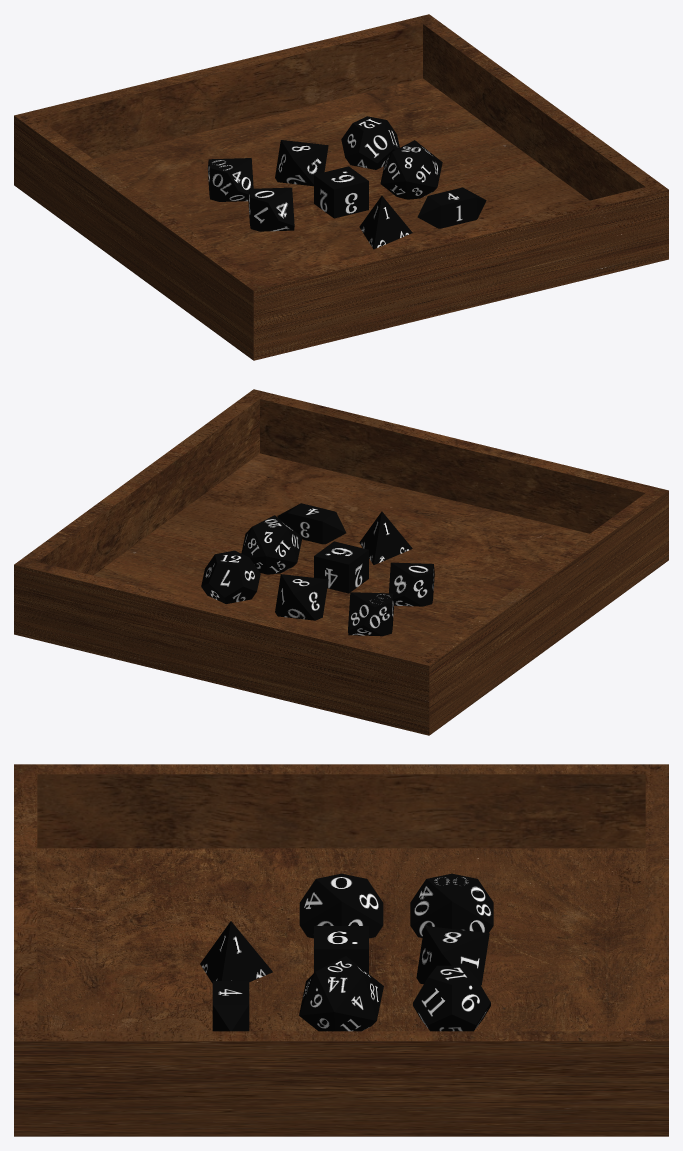
The model's file is dice.glb.
The picture shows the model from 3 angles, top to bottom: view 1: azimuth 30°, elevation 25°; view 2: azimuth 150°, elevation 25°; view 3: azimuth 270°, elevation 25°; orthographic projection. The views are drawn at different scales.
Visible parts, largest first — view 1: Tray, d12_unbaked, d10_unbaked, d20_unbaked, d6_unbaked, d4_alt_fixed_unbaked, d00_unbaked, d4_unbaked, d8, d8_unbaked, d20, d12 (+4 smaller); view 2: Tray, d12_unbaked, d20_unbaked, d6_unbaked, d8_unbaked, d10_unbaked, d4_alt_fixed_unbaked, d00_unbaked, d4_unbaked, d4_alt_fixed, d8, d4 (+4 smaller); view 3: Tray, d20_unbaked, d12_unbaked, d00_unbaked, d10_unbaked, d8_unbaked, d4_unbaked, d10, d20, d00, d6_unbaked, d4_alt_fixed_unbaked (+4 smaller).
Part boxes in pixels (x1,y1,x2,y2): Tray: (14, 14, 668, 360); d12_unbaked: (341, 116, 399, 169); d10_unbaked: (248, 187, 294, 231); d20_unbaked: (380, 140, 442, 199); d6_unbaked: (314, 166, 368, 218); d4_alt_fixed_unbaked: (417, 187, 486, 228); d00_unbaked: (207, 158, 253, 201); d4_unbaked: (359, 196, 412, 249); d8: (275, 142, 326, 186); d8_unbaked: (275, 140, 328, 186); d20: (382, 142, 441, 198); d12: (343, 120, 395, 169); Tray: (14, 389, 668, 735); d12_unbaked: (201, 550, 260, 604); d20_unbaked: (241, 515, 302, 574); d6_unbaked: (314, 541, 368, 593); d8_unbaked: (275, 574, 328, 620); d10_unbaked: (389, 562, 434, 606); d4_alt_fixed_unbaked: (277, 503, 346, 544); d00_unbaked: (348, 592, 394, 636); d4_unbaked: (359, 511, 412, 564); d4_alt_fixed: (280, 504, 342, 543); d8: (276, 578, 326, 619); d4: (363, 515, 410, 564); Tray: (14, 764, 668, 1136); d20_unbaked: (299, 956, 383, 1031); d12_unbaked: (413, 965, 490, 1031); d00_unbaked: (410, 873, 493, 937); d10_unbaked: (299, 873, 383, 938); d8_unbaked: (416, 926, 489, 985); d4_unbaked: (200, 921, 272, 983); d10: (301, 874, 380, 938); d20: (300, 961, 381, 1031); d00: (411, 874, 492, 937); d6_unbaked: (314, 926, 368, 973); d4_alt_fixed_unbaked: (212, 981, 249, 1031).
Size of the model in its own units: 0.1778 by 0.0286 by 0.1778.
Materials: 2 (2 with a texture image).
